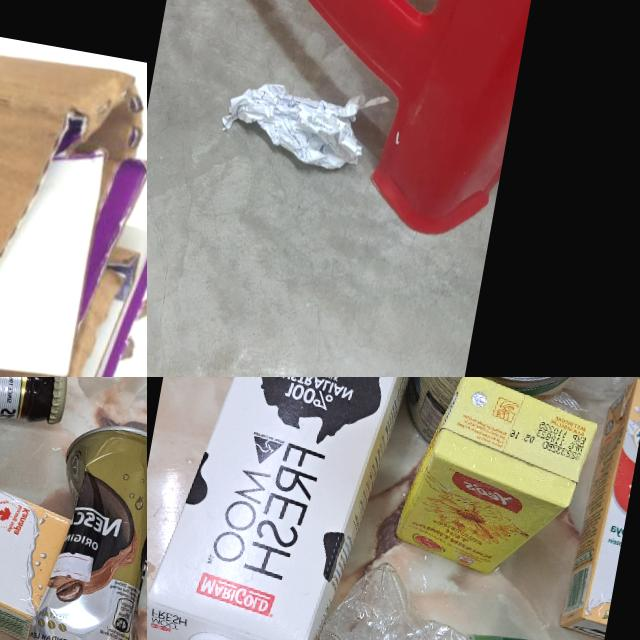caixinha: (147, 377, 444, 640), (387, 377, 604, 590), (560, 377, 640, 640), (0, 414, 91, 640)
garrafa plástica: (298, 554, 609, 640)
lata: (22, 415, 147, 640), (401, 377, 614, 467)
papel: (207, 62, 386, 180)
papelão: (0, 0, 147, 377)
